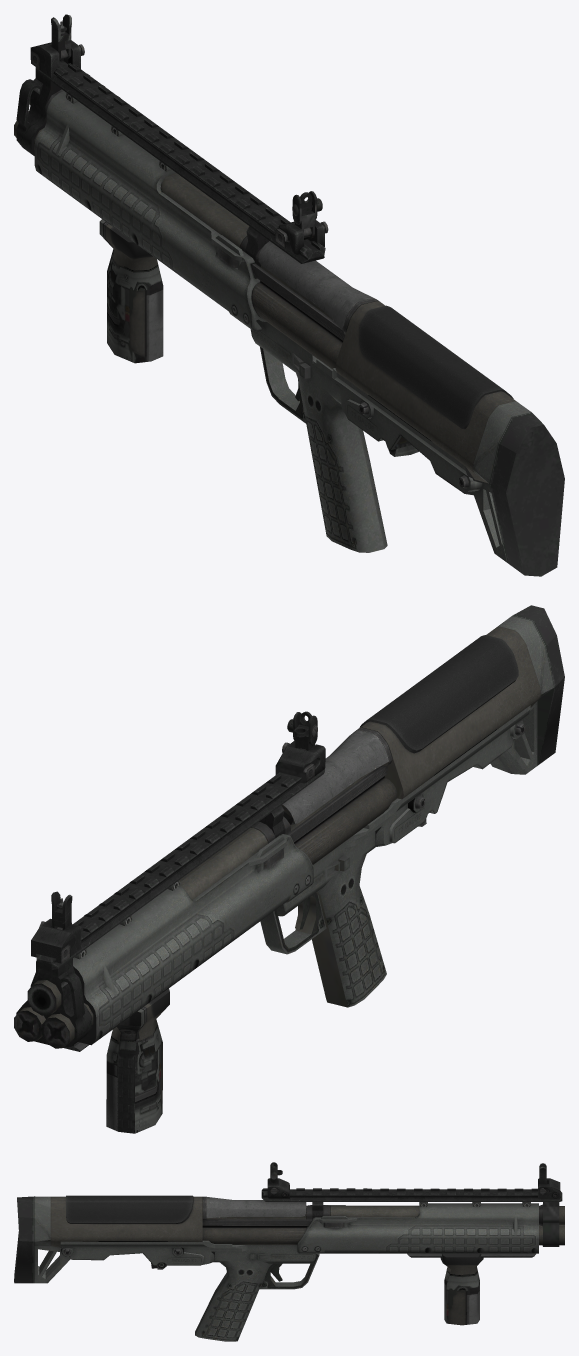
File: shotGun.FBX
3 renders of one model, top to bottom at view 1: azimuth 30°, elevation 25°; view 2: azimuth 150°, elevation 25°; view 3: azimuth 270°, elevation 25°, orthographic. The views are drawn at different scales.
Visible parts, largest first — view 1: DrawCall_0; view 2: DrawCall_0; view 3: DrawCall_0.
Part boxes in pixels (bbox=[...]): DrawCall_0: bbox=[14, 14, 564, 576]; DrawCall_0: bbox=[14, 605, 564, 1133]; DrawCall_0: bbox=[14, 1162, 564, 1341].
Bounding box in the file's own units: 0.1343 × 1.7 × 0.5952.
